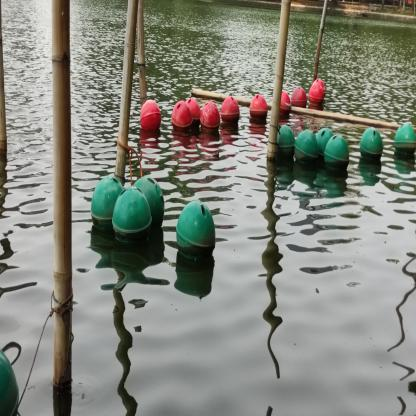green_buoy: (175, 197, 219, 263), (112, 185, 153, 246), (133, 177, 165, 227), (90, 174, 116, 228), (323, 133, 350, 172), (294, 125, 319, 164), (358, 127, 384, 164), (393, 120, 415, 157), (276, 123, 295, 162), (315, 122, 334, 155)
red_buoy: (139, 98, 163, 131), (170, 99, 193, 133), (198, 102, 221, 132), (220, 95, 240, 125), (249, 94, 268, 120), (185, 96, 201, 125), (308, 82, 324, 106), (290, 86, 307, 108), (279, 92, 291, 118)
